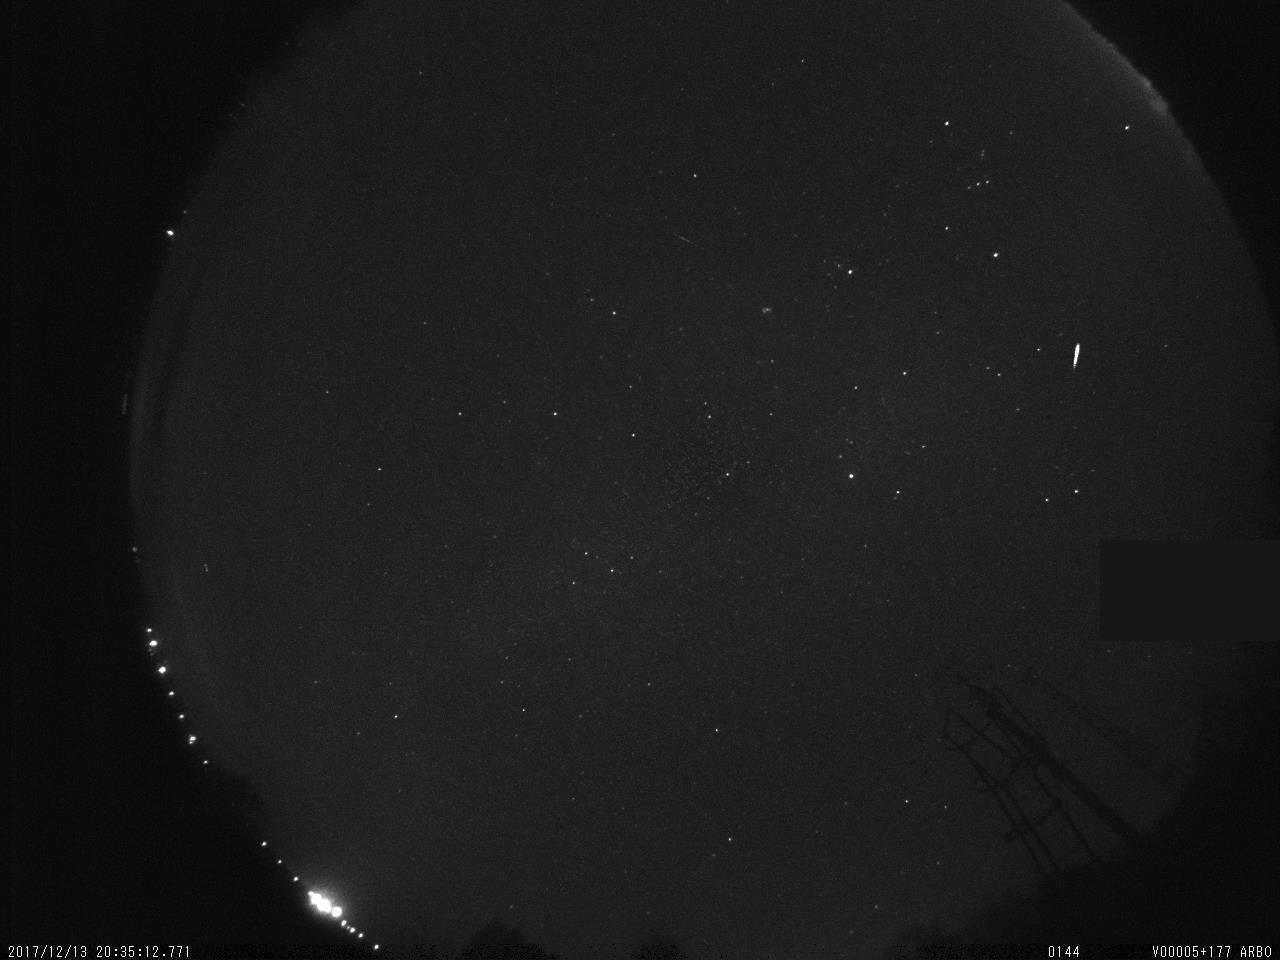meteor: (1054, 328, 1099, 384)
